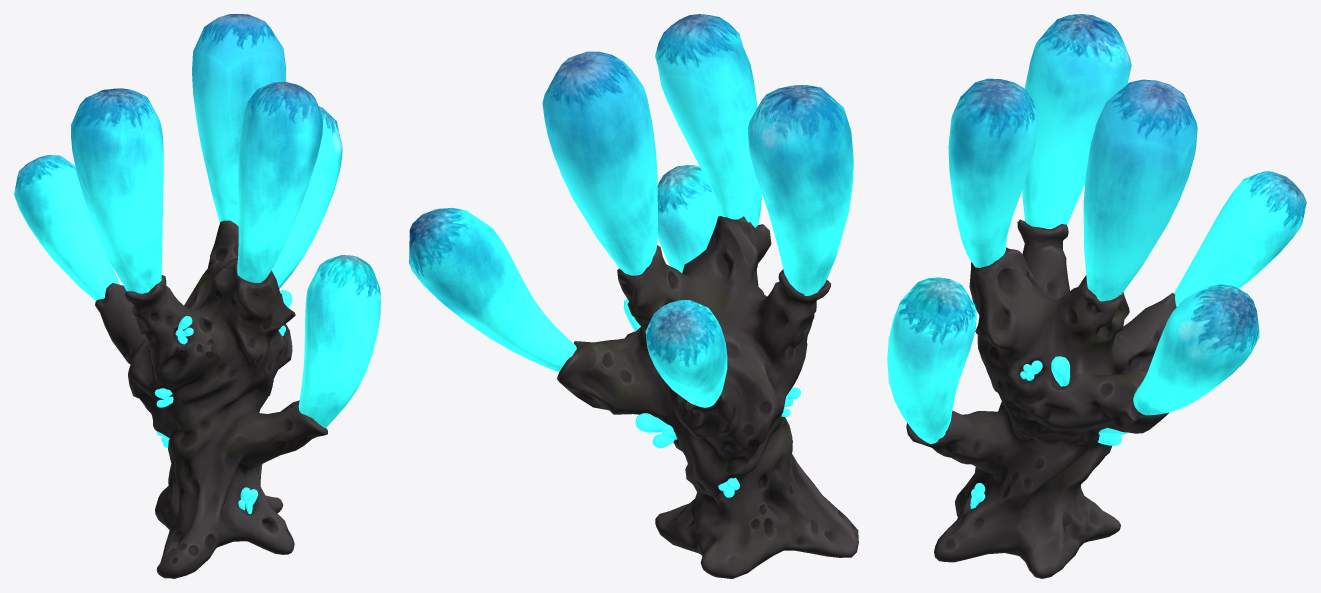
File: spacePlant_edit_for_FBX.fbx
3 views of the same model, side by side, from view 1: azimuth 30°, elevation 25°; view 2: azimuth 150°, elevation 25°; view 3: azimuth 270°, elevation 25° (orthographic). The views are drawn at different scales.
Parts seen in each view (by area): view 1: Tree01; view 2: Tree01; view 3: Tree01.
Part boxes in pixels (x1,y1,x2,y2): Tree01: (14, 14, 380, 578); Tree01: (409, 14, 858, 578); Tree01: (887, 14, 1306, 578).
Size of the model in its own units: 2729 by 3762 by 2799.
